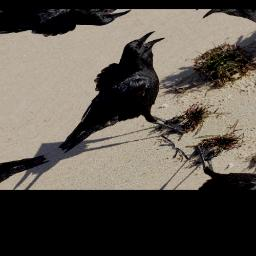Crow: (9, 28, 241, 182)
